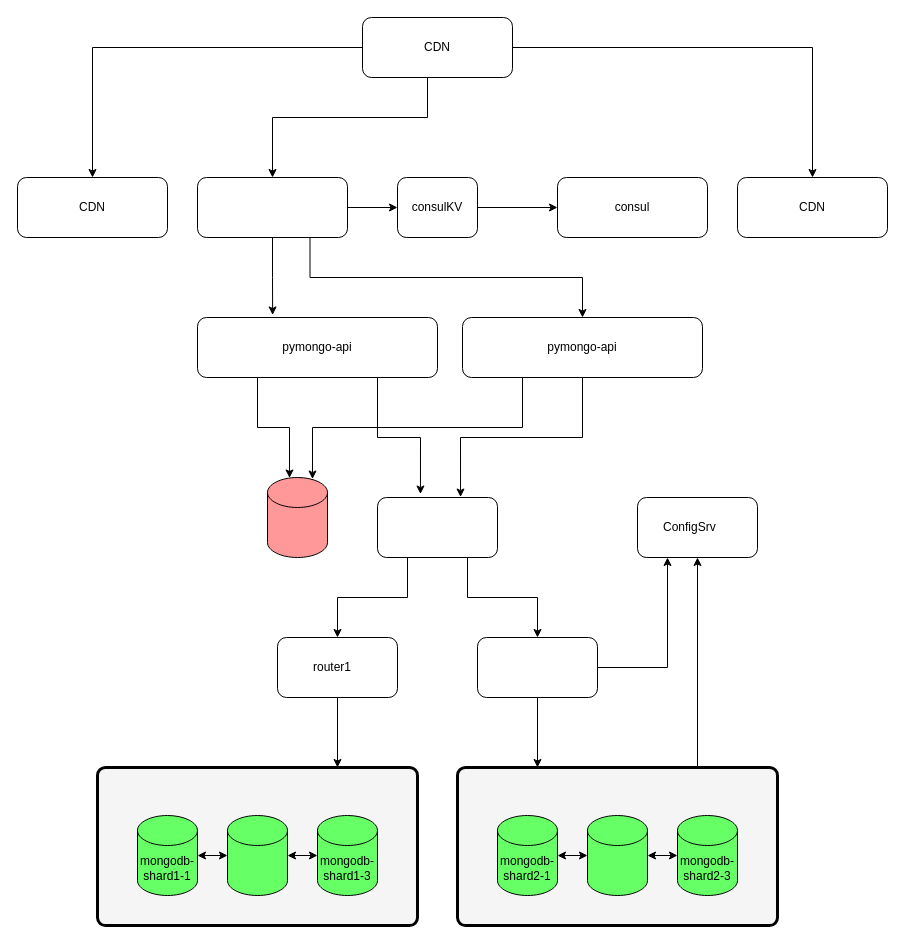
Image size: 905x944. Some labels were removed from this diagram. The shapes that lost their labels are listed below. From the top down, each one's centre as x and y in pixels, then its label:
the point at 272,207: APISIX Gateway
the point at 297,517: Redis
the point at 437,527: driver
the point at 537,667: router2
the point at 257,855: mongodb-shard1-2
the point at 617,855: mongodb-shard2-2
